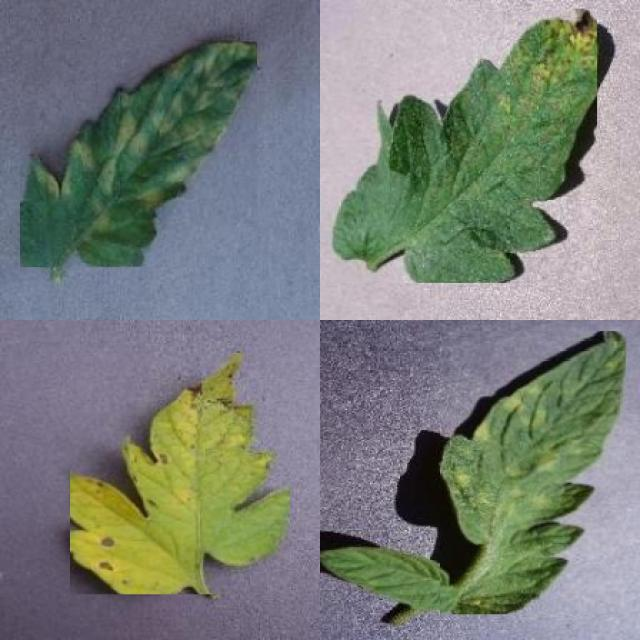Leaf Mold: (20, 42, 257, 267), (440, 330, 626, 614)
Septoria: (332, 8, 597, 283), (70, 353, 290, 594)
